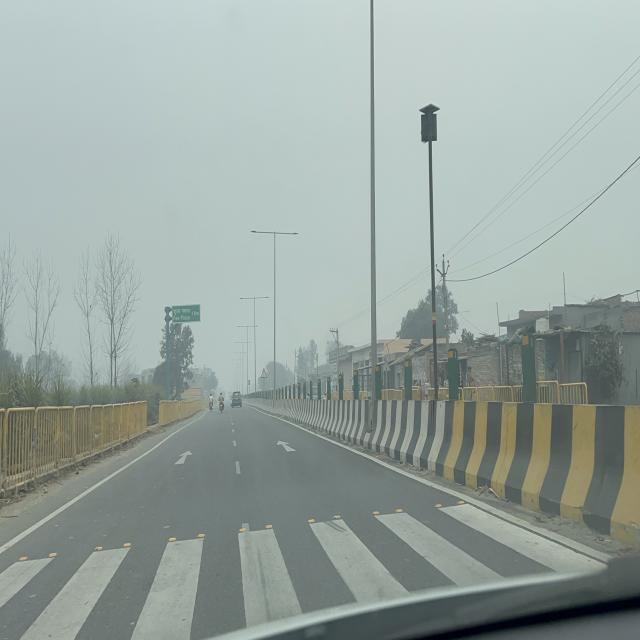GENERAL: (172, 304, 200, 323)
